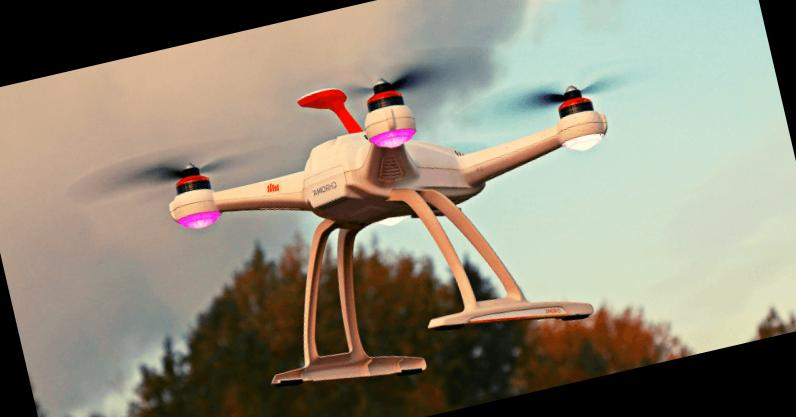drone: (82, 27, 660, 340)
